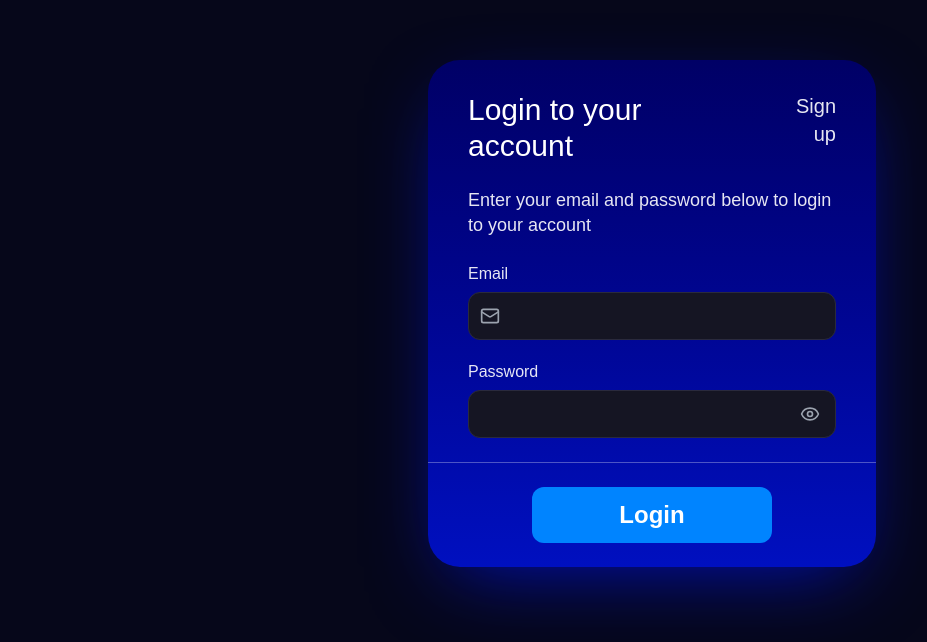
Test: authentication › redirects anonymous users to login and back after signing in
Expected: the heading "Login to your account" is shown, left=468, top=93, right=642, bottom=162
In the field labelled "Email": (652, 316) left=468, top=292, right=836, bottom=340, type "erin@test.local"
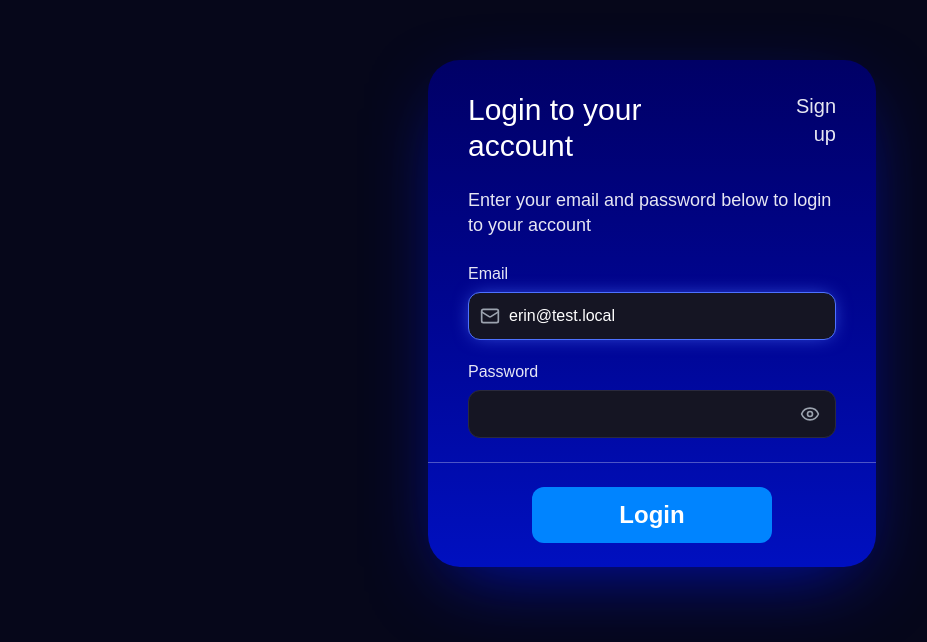
In the password field labelled "Password": (652, 414) left=468, top=390, right=836, bottom=438, type "senha123"
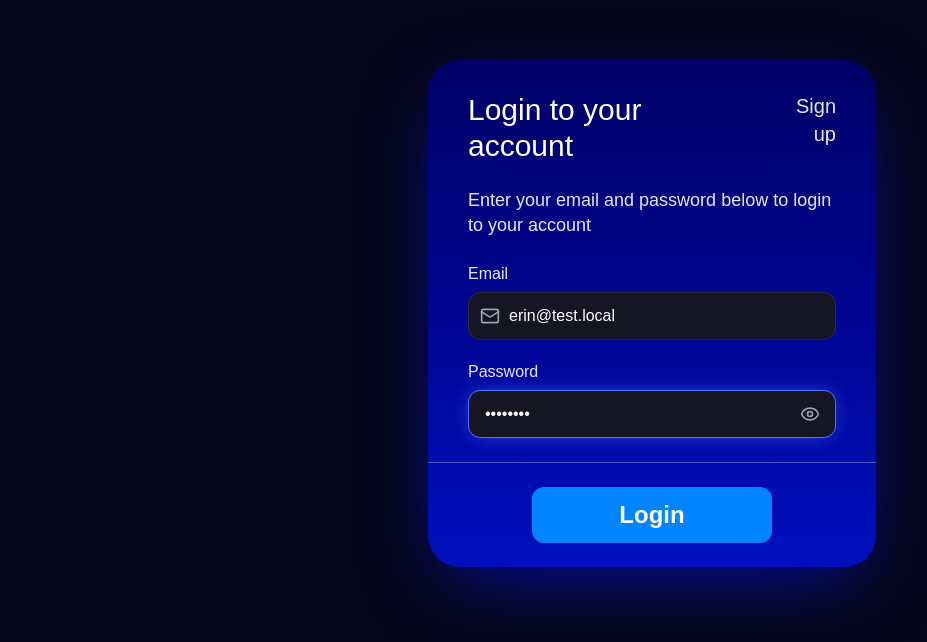
Click the button "Login": click(652, 514) left=532, top=486, right=772, bottom=542
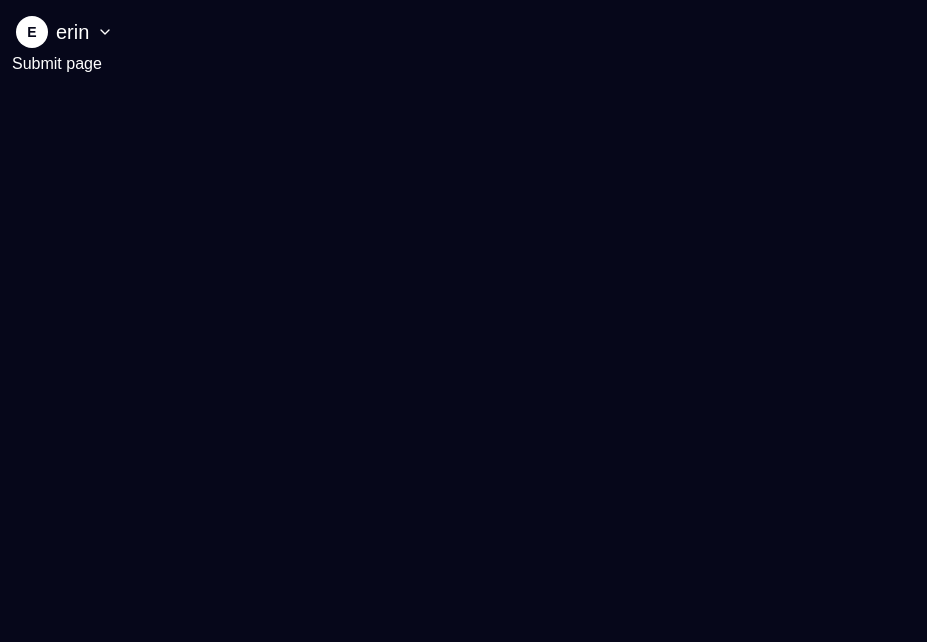
Now the text "Submit page" is shown, box left=12, top=55, right=102, bottom=72
